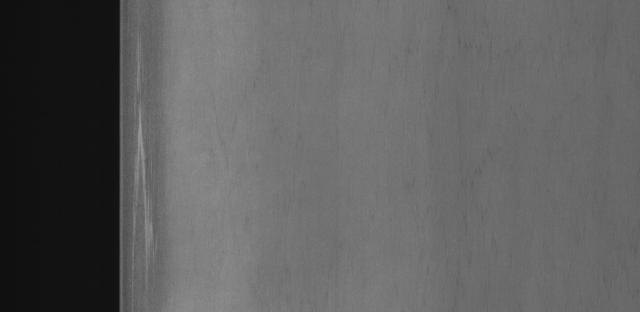silk_spot: (120, 70, 203, 303)
